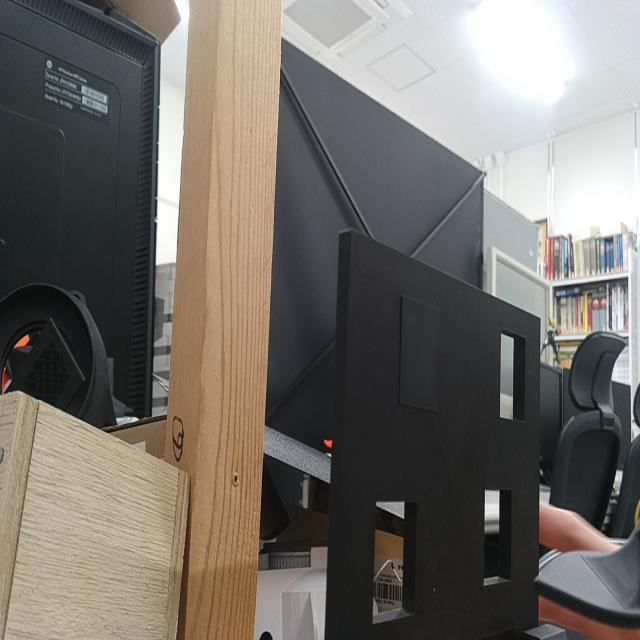Obstacle: (372, 498, 413, 625), (485, 490, 512, 587), (500, 332, 524, 421)
Wall: (337, 232, 539, 639)
